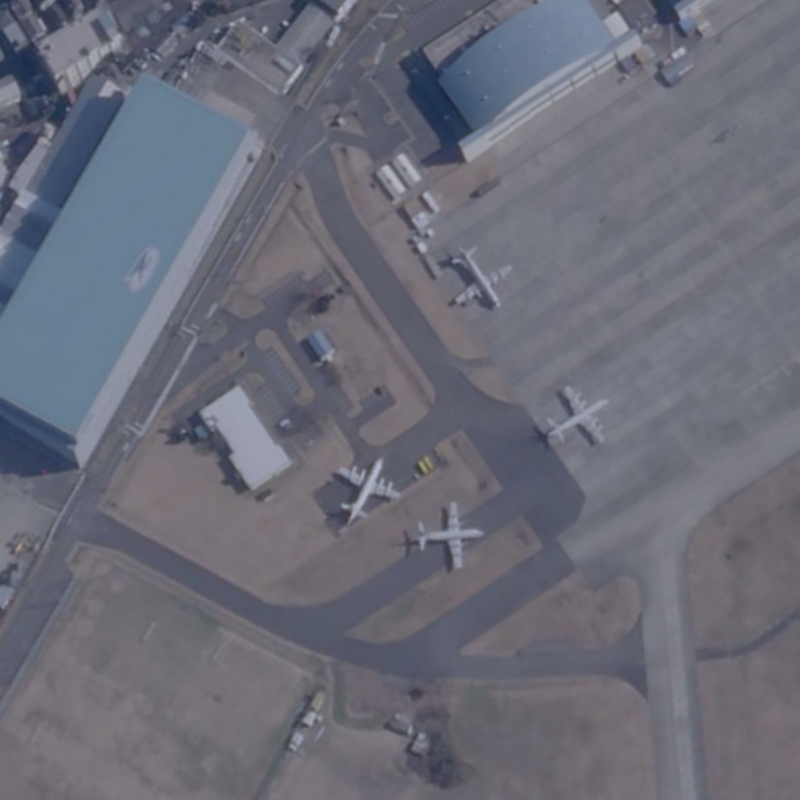A9: (406, 495, 491, 576), (326, 450, 404, 532), (540, 379, 615, 451), (445, 240, 518, 313)
